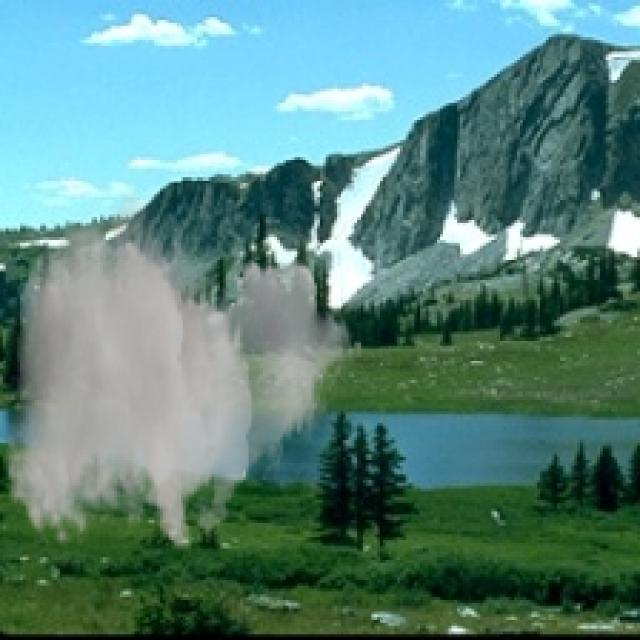Smoke: (6, 179, 363, 552)
